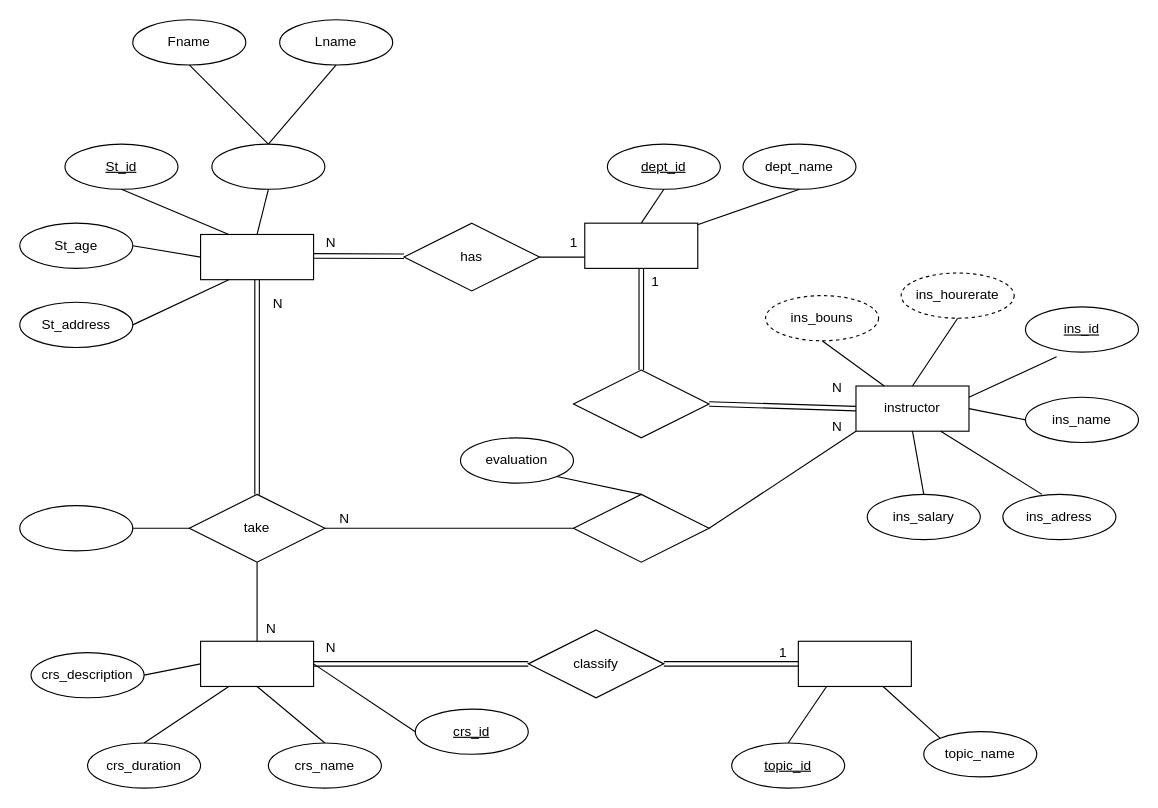
Some shapes in this 1158 by 808 pixel diagram are drawn without their labels. The shapes that lost their labels are listed below. From the top down, each one's centre as x and y in pixels, then its label:
(268,166): Student Name
(256,256): Student
(641,245): department
(640,403): contain
(76,528): grade
(640,527): teach
(256,663): course
(854,663): topic
